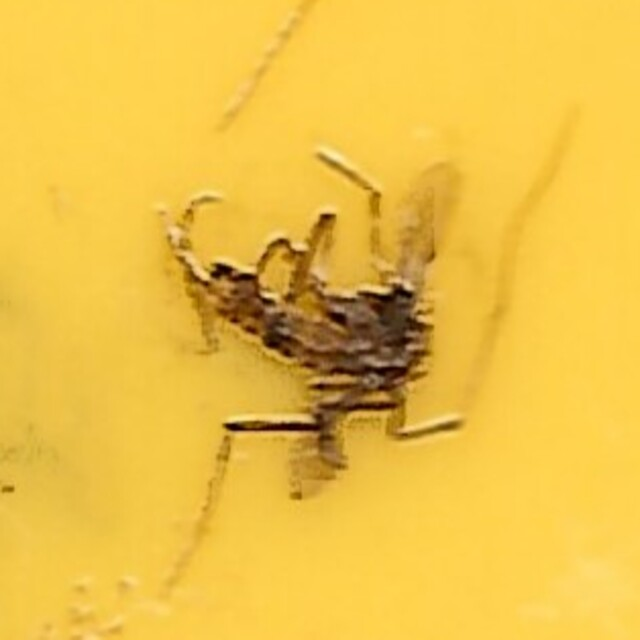Nematocera: (204, 246, 436, 394)
